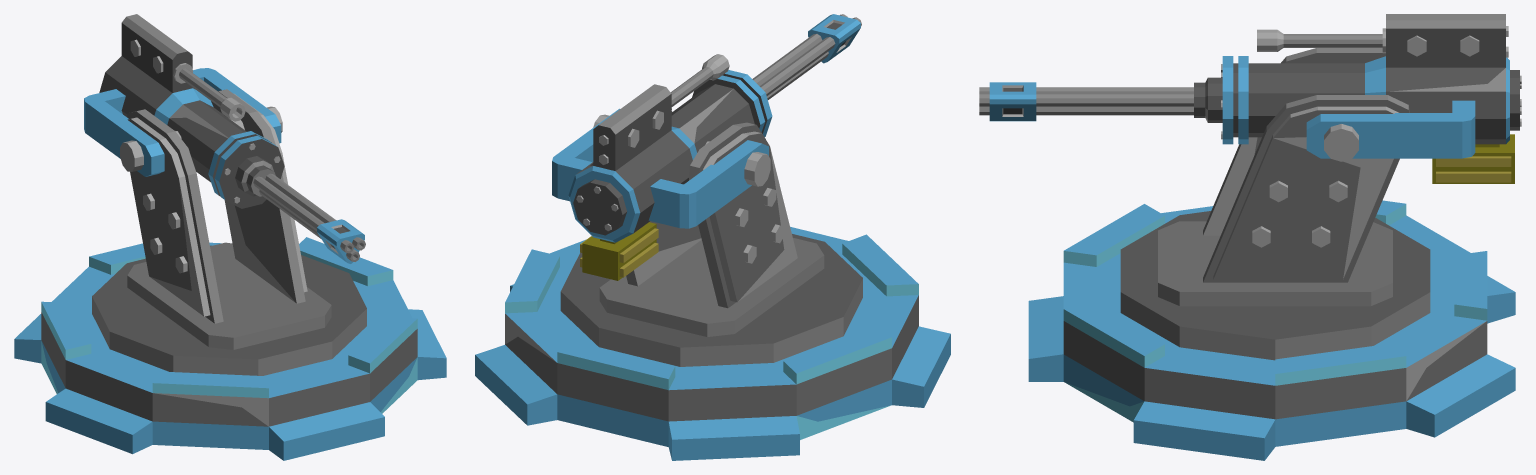
The model's file is tower_minigun_blue_2.fbx.
3 views of the same model, side by side, from view 1: azimuth 30°, elevation 25°; view 2: azimuth 150°, elevation 25°; view 3: azimuth 270°, elevation 25° (orthographic). The views are drawn at different scales.
Visible parts, largest first — view 1: top_minigun_blue_2, tower_minigun_blue_2; view 2: top_minigun_blue_2, tower_minigun_blue_2; view 3: top_minigun_blue_2, tower_minigun_blue_2.
Part boxes in pixels (x1,y1,x2,y2): top_minigun_blue_2: (84,14,366,375); tower_minigun_blue_2: (14,237,446,460); top_minigun_blue_2: (552,14,862,366); tower_minigun_blue_2: (475,226,950,460); top_minigun_blue_2: (979,14,1521,360); tower_minigun_blue_2: (1028,200,1515,460).
Size of the model in its own units: 167 by 120 by 177.
